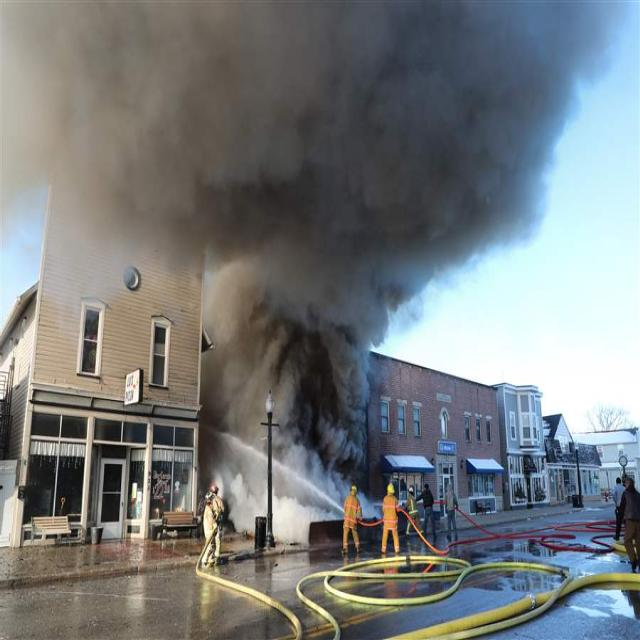smoke: (5, 2, 596, 250), (212, 259, 379, 522)
